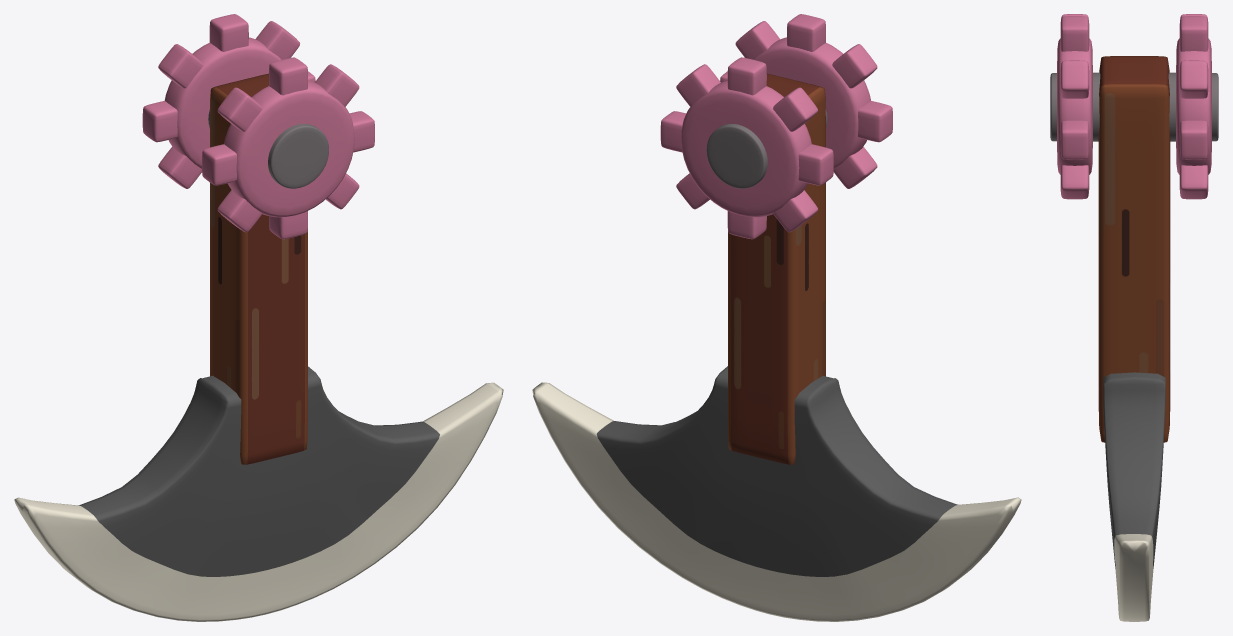
File: axe.fbx
3 views of the same model, side by side, from view 1: azimuth 30°, elevation 25°; view 2: azimuth 150°, elevation 25°; view 3: azimuth 270°, elevation 25° (orthographic).
Visible parts, largest first — view 1: axe_blade, axe_stick; view 2: axe_blade, axe_stick; view 3: axe_stick, axe_blade.
Part boxes in pixels (x1,y1,x2,y2): axe_blade: (14,366,503,621); axe_stick: (142,14,374,464); axe_blade: (532,366,1021,621); axe_stick: (660,14,892,464); axe_stick: (1050,14,1218,442); axe_blade: (1103,372,1165,621).
Size of the model in its own units: 17.76 by 20.12 by 5.38.
